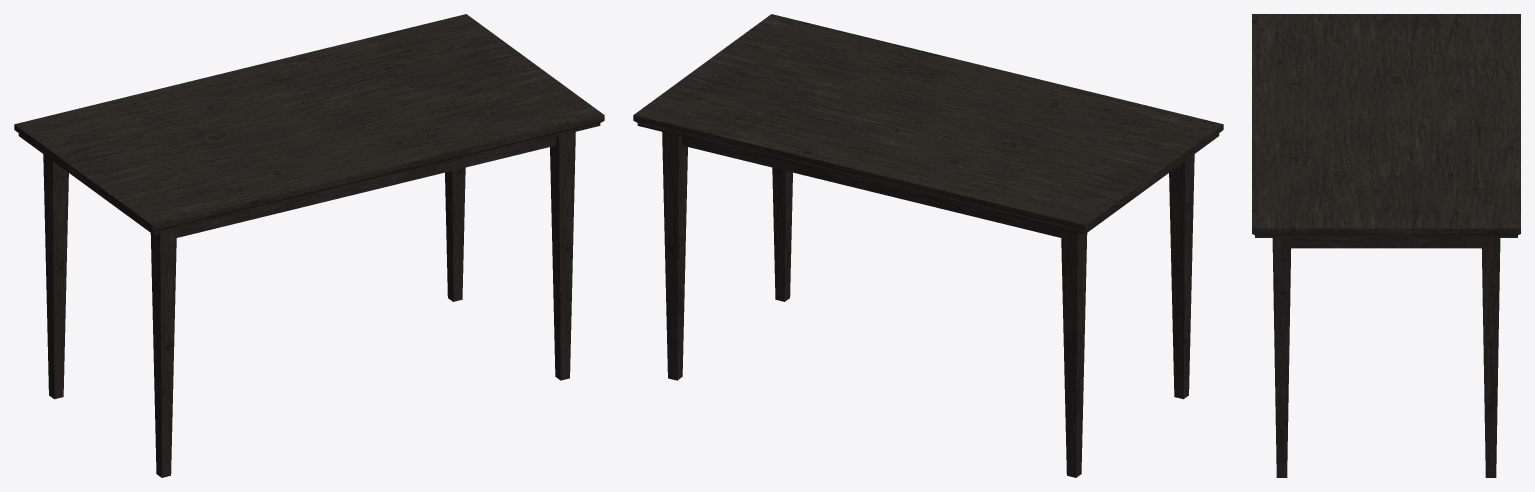
File: table_large_2.obj
3 views of the same model, side by side, from view 1: azimuth 30°, elevation 25°; view 2: azimuth 150°, elevation 25°; view 3: azimuth 270°, elevation 25° (orthographic). The views are drawn at different scales.
Visible parts, largest first — view 1: table_large_2; view 2: table_large_2; view 3: table_large_2.
Part boxes in pixels (left/top/right/bottom): table_large_2: left=14, top=14, right=604, bottom=477; table_large_2: left=633, top=14, right=1223, bottom=477; table_large_2: left=1252, top=14, right=1520, bottom=477.
Bounding box in the file's own units: 1.7 × 0.96 × 0.9.
